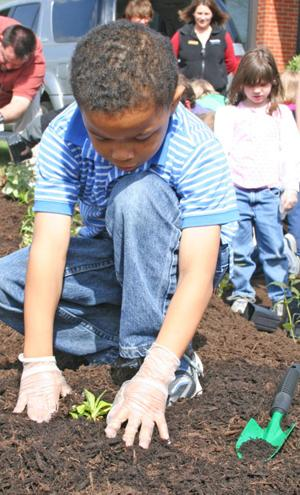person: (1, 20, 242, 459)
